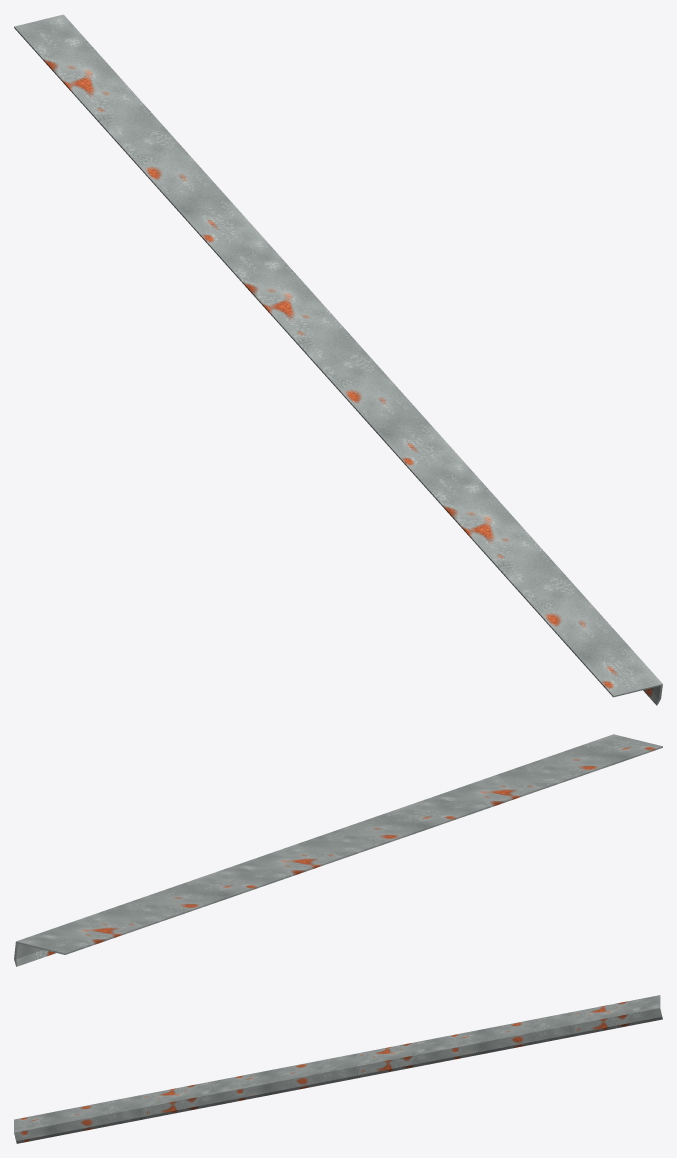
File: ROOF_VERGE_EDGE_3000.glb
3 renders of one model, top to bottom at view 1: azimuth 30°, elevation 25°; view 2: azimuth 150°, elevation 25°; view 3: azimuth 270°, elevation 25°, orthographic. The views are drawn at different scales.
Visible parts, largest first — view 1: ROOF_VERGE_EDGE_3000__Verge_Flashing_Bent; view 2: ROOF_VERGE_EDGE_3000__Verge_Flashing_Bent; view 3: ROOF_VERGE_EDGE_3000__Verge_Flashing_Bent.
Boxes of the visible parts, left/top/right/bottom form: ROOF_VERGE_EDGE_3000__Verge_Flashing_Bent: left=14, top=14, right=662, bottom=705; ROOF_VERGE_EDGE_3000__Verge_Flashing_Bent: left=14, top=734, right=662, bottom=966; ROOF_VERGE_EDGE_3000__Verge_Flashing_Bent: left=14, top=995, right=662, bottom=1143.
Bounding box in the file's own units: 0.14 × 0.6844 × 2.95.
1 material, 1 textured.
